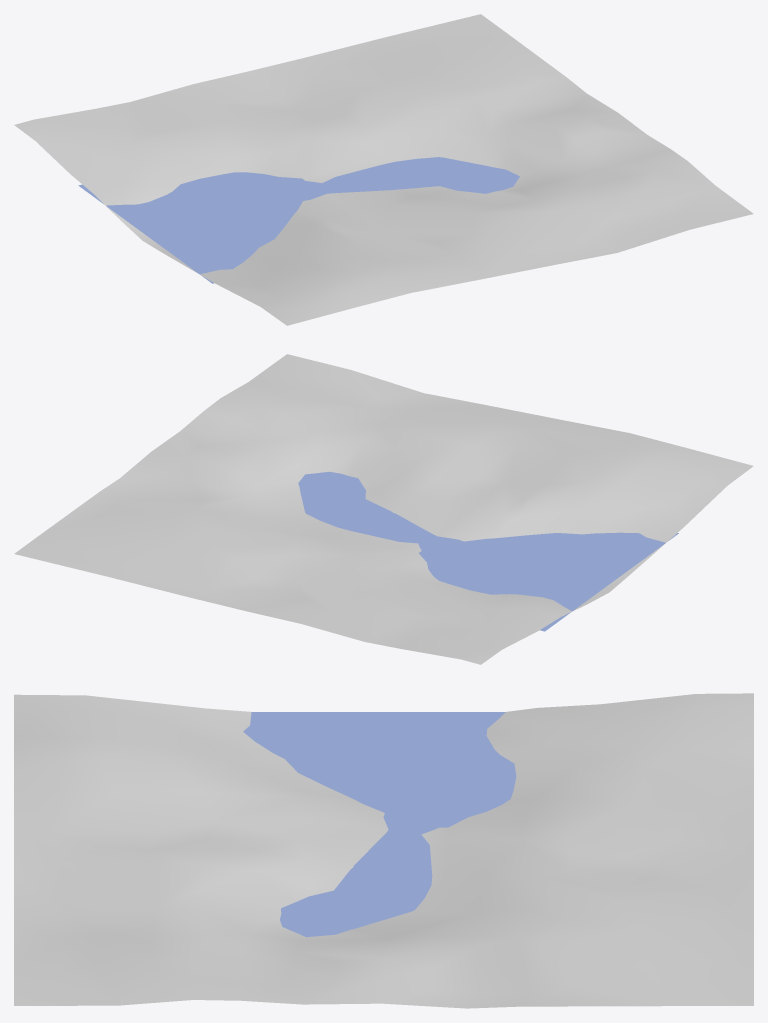
Rendered from level2.fbx.
The picture shows the model from 3 angles, top to bottom: view 1: azimuth 30°, elevation 25°; view 2: azimuth 150°, elevation 25°; view 3: azimuth 270°, elevation 25°; orthographic projection. The views are drawn at different scales.
Parts seen in each view (by area): view 1: Snow_plane.001, ICE.001; view 2: Snow_plane.001, ICE.001; view 3: Snow_plane.001, ICE.001.
Part boxes in pixels (bbox=[...]): Snow_plane.001: bbox=[14, 14, 753, 325]; ICE.001: bbox=[78, 157, 519, 283]; Snow_plane.001: bbox=[14, 354, 753, 664]; ICE.001: bbox=[298, 471, 678, 631]; Snow_plane.001: bbox=[14, 693, 753, 1008]; ICE.001: bbox=[243, 712, 516, 937].
Size of the model in its own units: 2270 by 133 by 2300.
